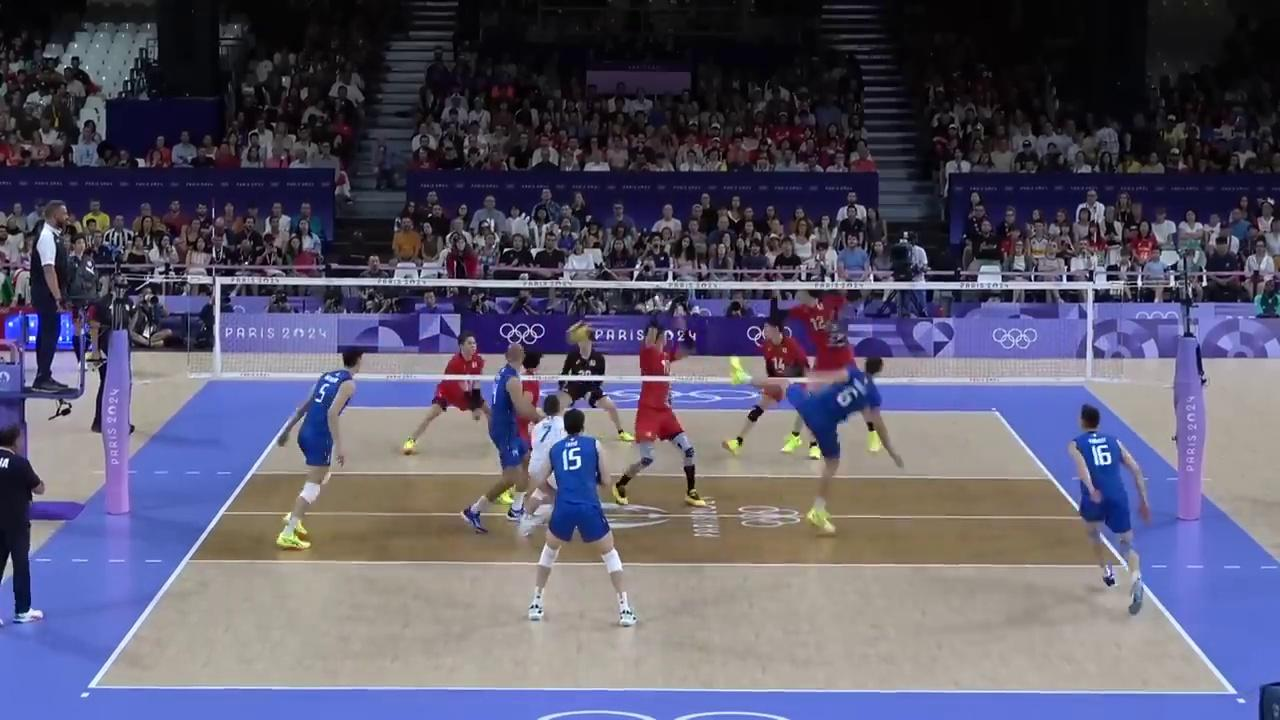ball: (568, 322, 588, 342)
